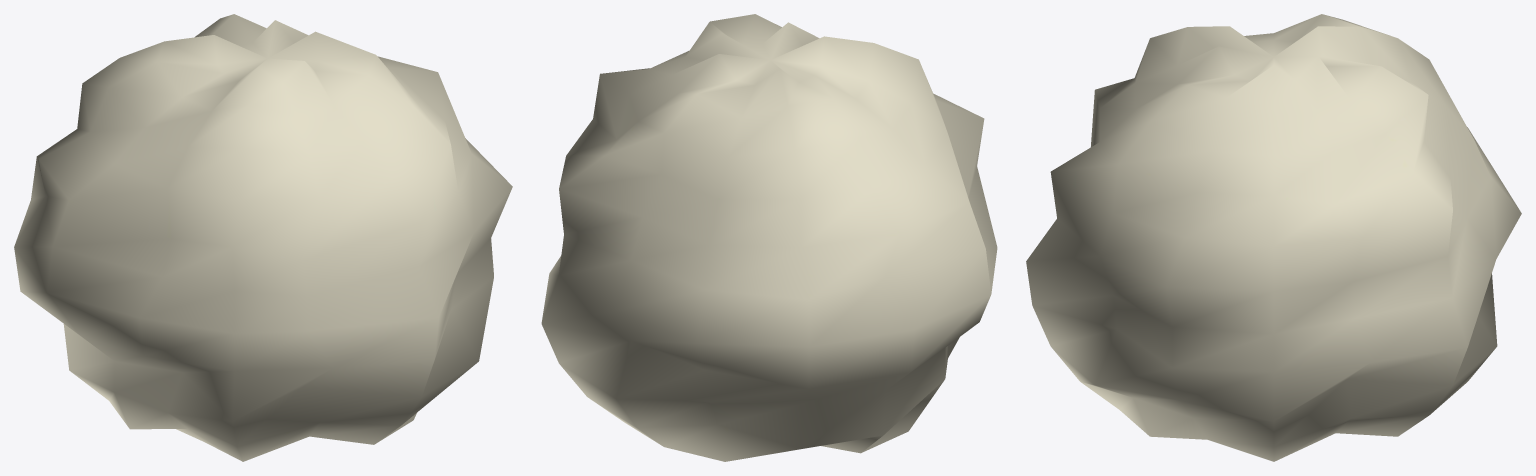
Rendered from Ball_of_Something.fbx.
3 renders of one model, left to right at view 1: azimuth 30°, elevation 25°; view 2: azimuth 150°, elevation 25°; view 3: azimuth 270°, elevation 25°, orthographic.
Parts seen in each view (by area): view 1: PaperBall; view 2: PaperBall; view 3: PaperBall.
Boxes of the visible parts, x1=… form: PaperBall: x1=14, y1=14, x2=512, y2=461; PaperBall: x1=541, y1=14, x2=997, y2=461; PaperBall: x1=1026, y1=14, x2=1521, y2=461.
Bounding box in the file's own units: 0.2279 × 0.1903 × 0.2336.
Materials: 1 (1 with a texture image).
